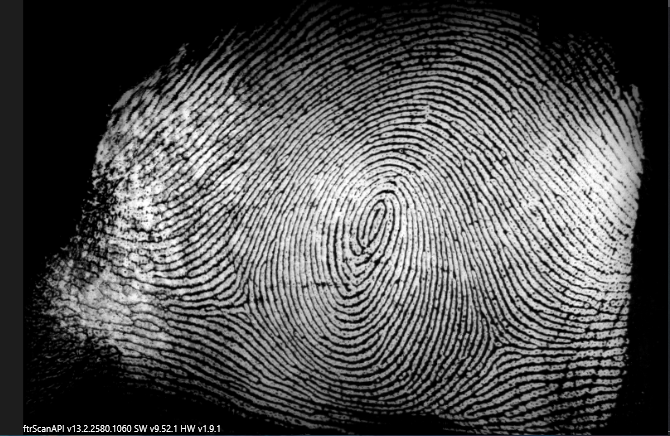nucelo: (367, 192, 393, 242)
verticilo: (483, 320, 514, 357), (230, 282, 255, 312)
